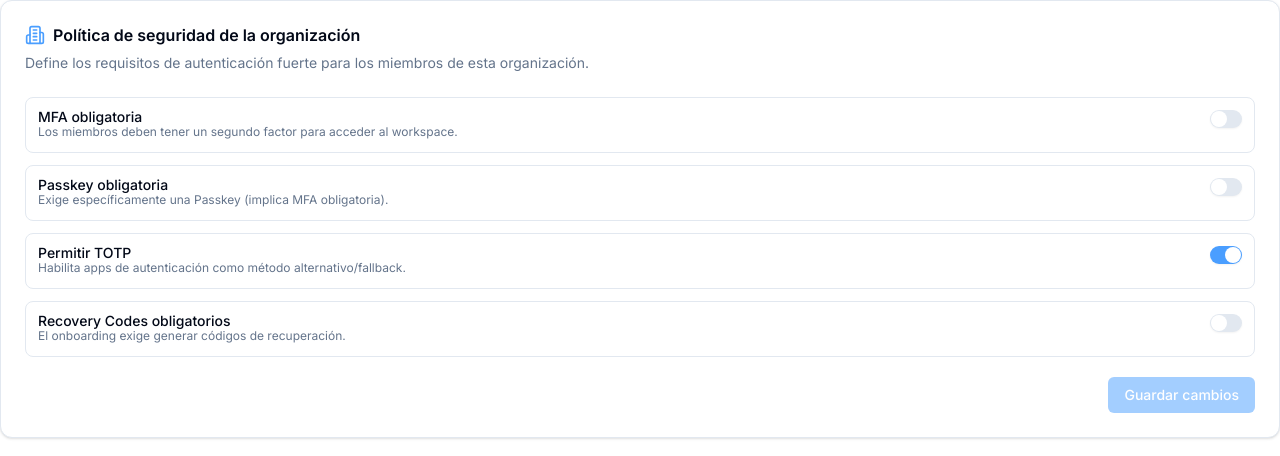
Test: OrganizationSecuritySettings › activar "Passkey obligatoria" fuerza "MFA obligatoria" (coherencia)
The image size is (1280, 456).
Click the switch named "passkey obligatoria" in the row of "Passkey obligatoria" at (1226, 187), box [1210,178,1242,196]
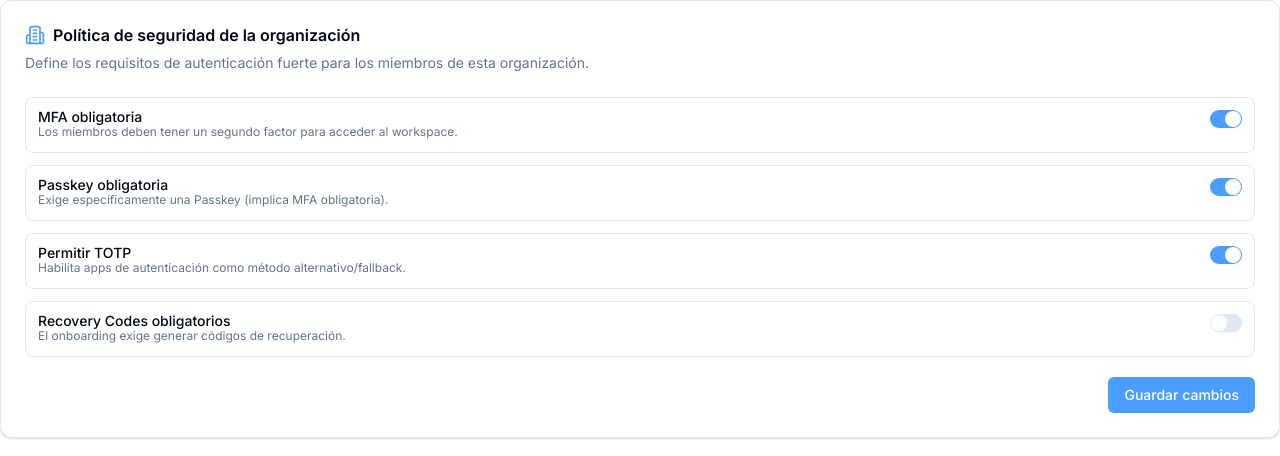
Check: the 1st switch named "mfa obligatoria" is checked, box [1210,110,1242,128]
